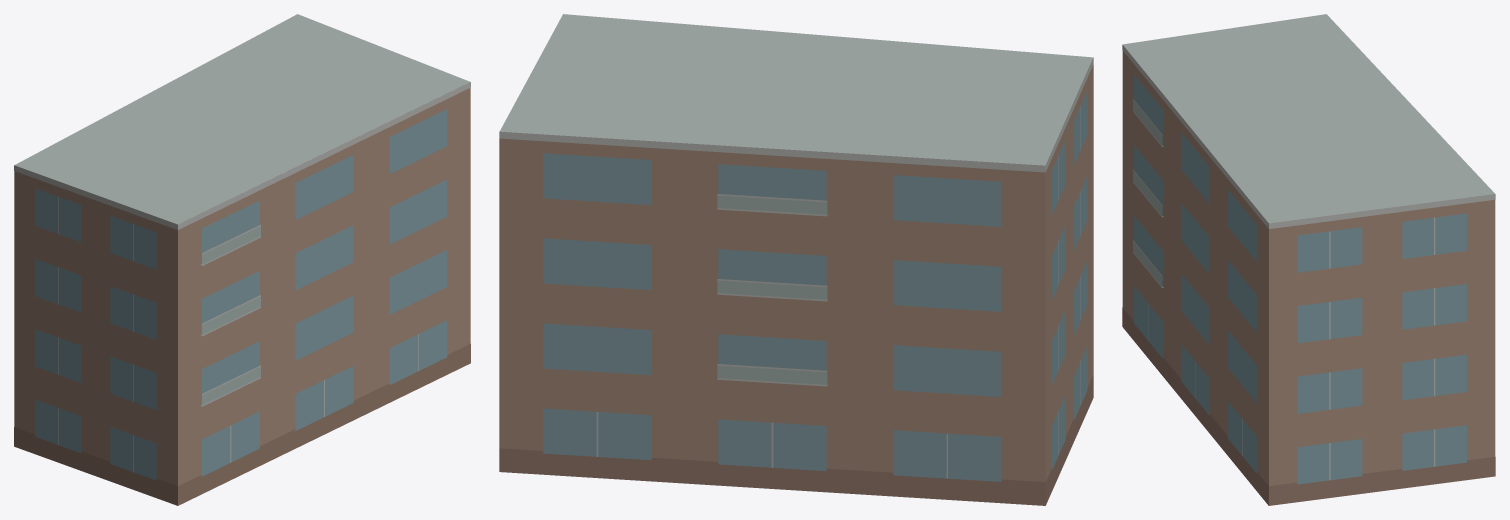
The model's file is residential-a31d5ee3-a960-4de2-b897-56827aefe42c.glb.
3 views of the same model, side by side, from view 1: azimuth 30°, elevation 25°; view 2: azimuth 150°, elevation 25°; view 3: azimuth 270°, elevation 25° (orthographic). The views are drawn at different scales.
Parts seen in each view (by area): view 1: residential-a31d5ee3-a960-4de2-b897-56827aefe42c.tmp; view 2: residential-a31d5ee3-a960-4de2-b897-56827aefe42c.tmp; view 3: residential-a31d5ee3-a960-4de2-b897-56827aefe42c.tmp.
Part boxes in pixels (x1,y1,x2,y2): residential-a31d5ee3-a960-4de2-b897-56827aefe42c.tmp: (14, 14, 470, 505); residential-a31d5ee3-a960-4de2-b897-56827aefe42c.tmp: (499, 14, 1093, 505); residential-a31d5ee3-a960-4de2-b897-56827aefe42c.tmp: (1122, 14, 1495, 505).
Size of the model in its own units: 19.42 by 12.2 by 14.62.
